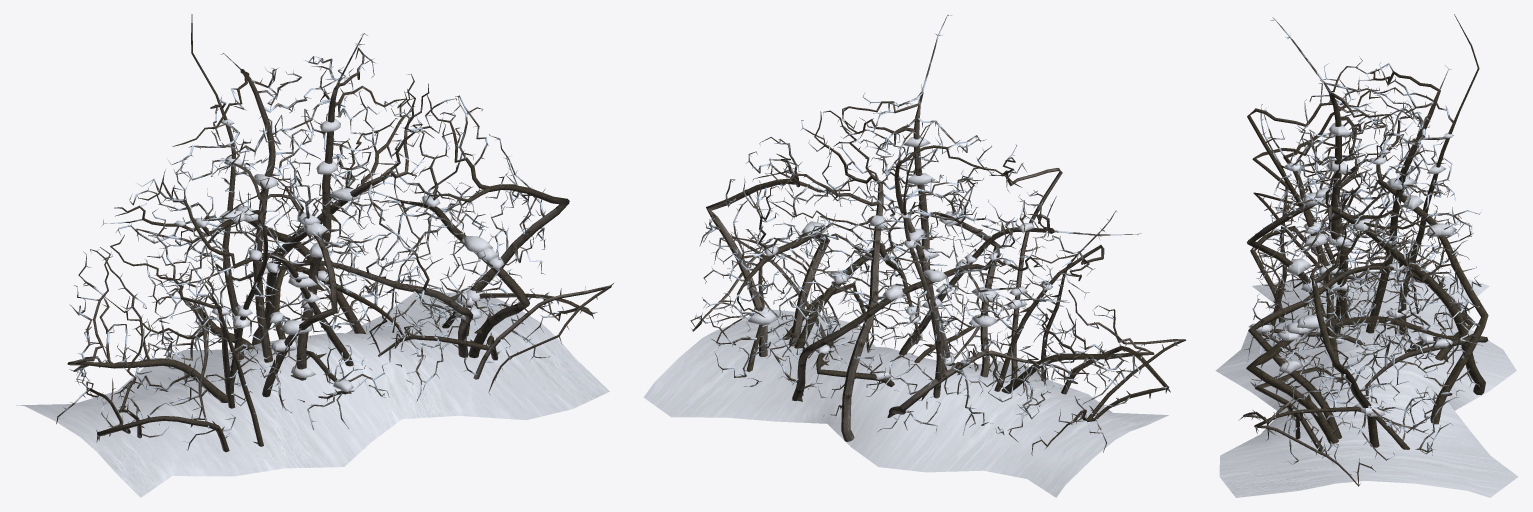
File: hd_thorn_heap.glb
3 renders of one model, left to right at view 1: azimuth 30°, elevation 25°; view 2: azimuth 150°, elevation 25°; view 3: azimuth 270°, elevation 25°, orthographic. The views are drawn at different scales.
Parts seen in each view (by area): view 1: hd_thorn_heap; view 2: hd_thorn_heap; view 3: hd_thorn_heap.
Part boxes in pixels (x1,y1,x2,y2): hd_thorn_heap: (16,14,614,497); hd_thorn_heap: (643,14,1186,497); hd_thorn_heap: (1215,14,1518,497).
Bounding box in the file's own units: 4.43 × 3.3 × 2.42.
1 material, 1 textured.
